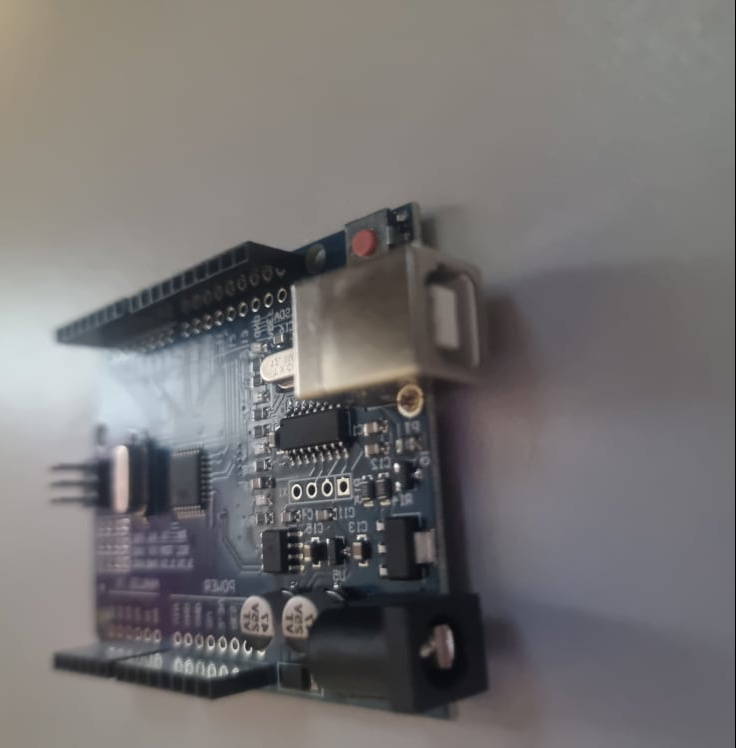UNO R3: (52, 199, 503, 727)
